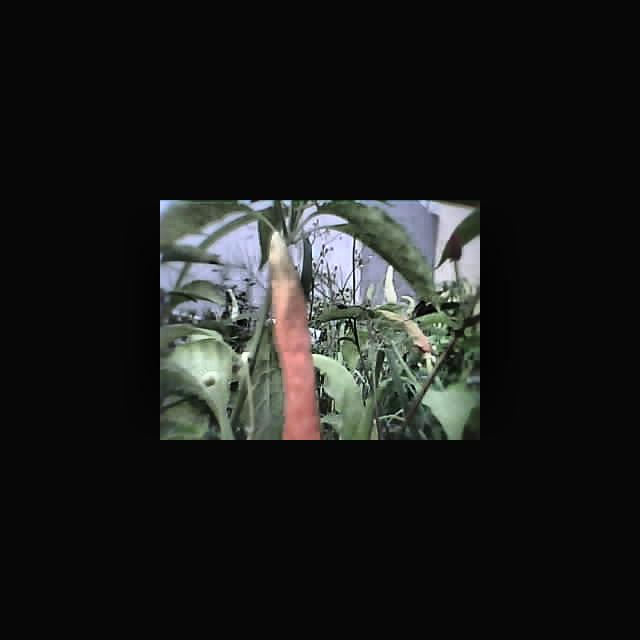Cabai: (267, 233, 324, 440)
